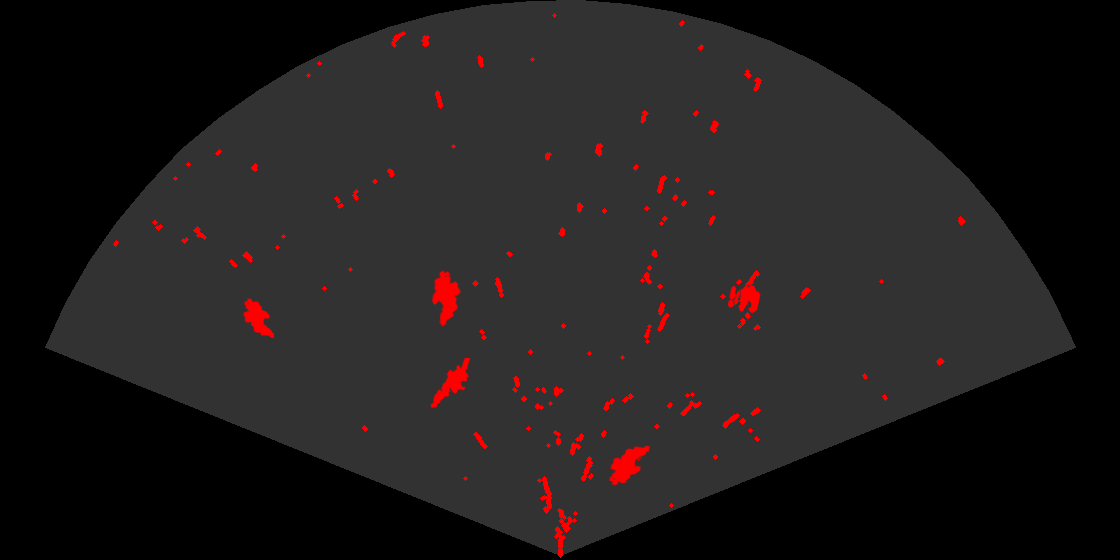AUV: (607, 444, 652, 487), (430, 269, 462, 328), (242, 297, 276, 340)
ball: (726, 284, 762, 315)
frogman: (429, 358, 472, 410)
